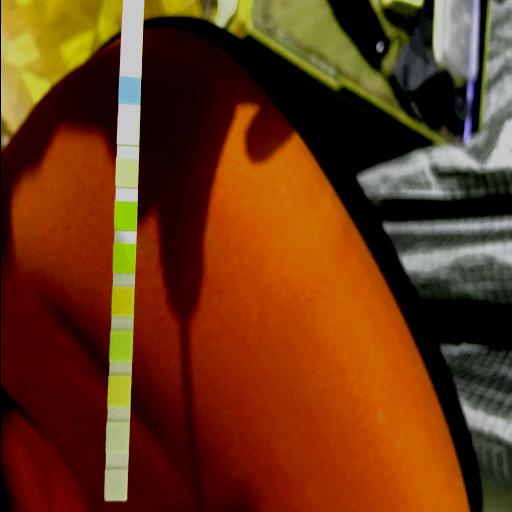Bilirubin: (116, 119, 138, 145)
Blood: (112, 244, 134, 272)
Glucose: (118, 77, 140, 103)
Ketone: (115, 160, 137, 187)
Leukocytes: (104, 470, 126, 500)
Nitrite: (106, 423, 128, 453)
Protein: (110, 332, 131, 360)
SpGravity: (114, 202, 136, 230)
Urobilinogen: (108, 377, 130, 405)
pH: (112, 286, 132, 314)
strip: (104, 0, 143, 502)
